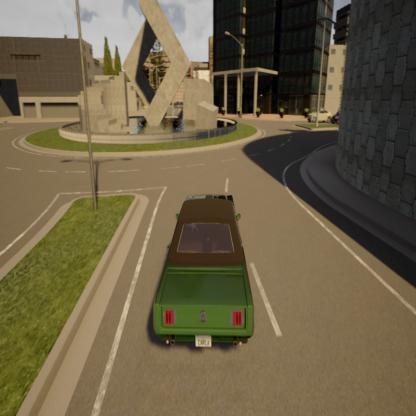Cars: (138, 176, 260, 362), (305, 107, 332, 124), (332, 110, 343, 127)
